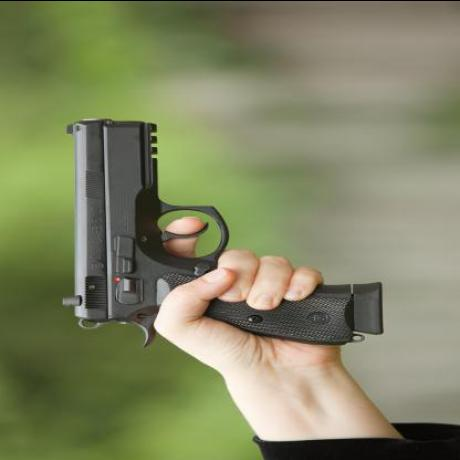1: (149, 215, 460, 460)
weapon: (61, 114, 393, 354)
